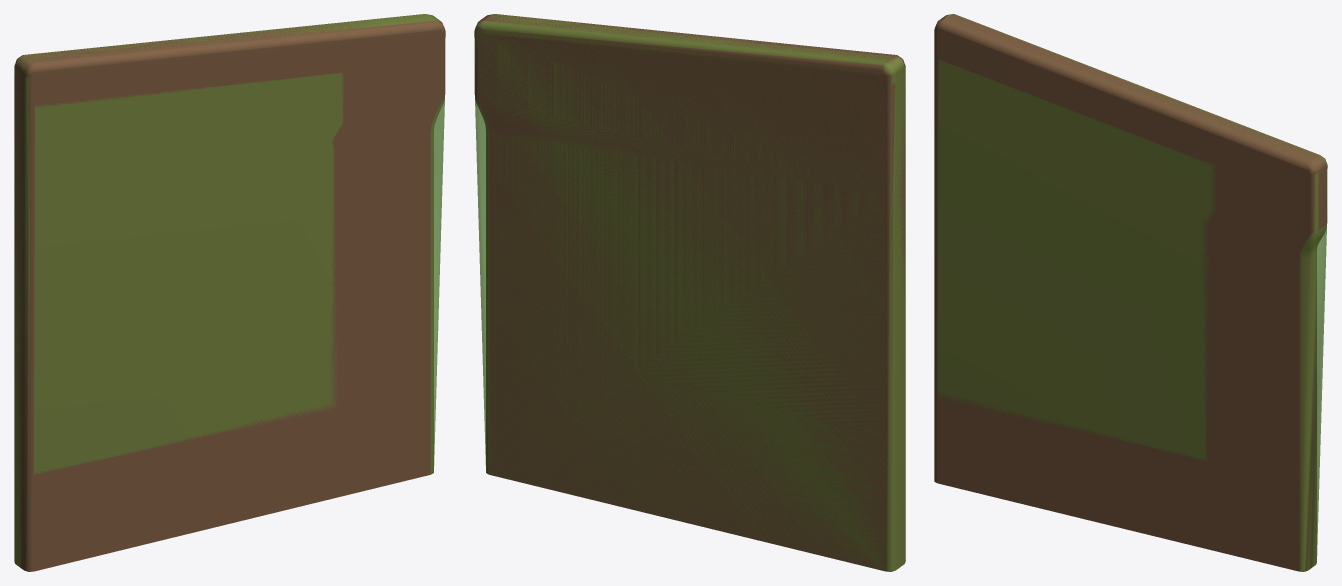
File: M_md_Stall5_end_01.fbx
3 renders of one model, left to right at view 1: azimuth 30°, elevation 25°; view 2: azimuth 150°, elevation 25°; view 3: azimuth 330°, elevation 25°, orthographic. The views are drawn at different scales.
Parts seen in each view (by area): view 1: M_md_Stall5_end_01_LOD0, M_md_Stall5_end_01_col_01; view 2: M_md_Stall5_end_01_LOD0, M_md_Stall5_end_01_col_01; view 3: M_md_Stall5_end_01_LOD0, M_md_Stall5_end_01_col_01.
Boxes of the visible parts, x1,y1,x2,y2 form: M_md_Stall5_end_01_LOD0: (14, 14, 445, 571); M_md_Stall5_end_01_col_01: (14, 14, 444, 567); M_md_Stall5_end_01_LOD0: (474, 14, 905, 571); M_md_Stall5_end_01_col_01: (474, 14, 905, 571); M_md_Stall5_end_01_LOD0: (934, 14, 1327, 571); M_md_Stall5_end_01_col_01: (934, 14, 1327, 571).
Size of what is drawn, in the model's own units: 108 by 124 by 7.07.
